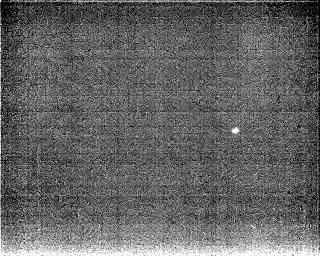AIRPLANE: (230, 125, 241, 136)
